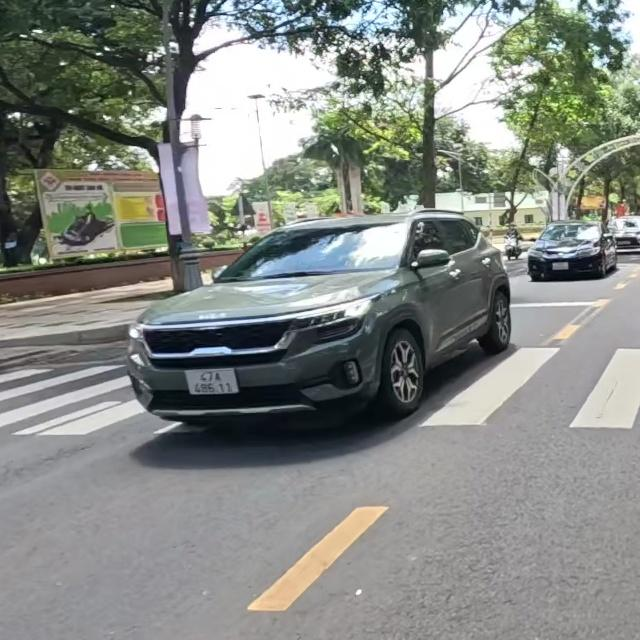license-plate: (186, 370, 239, 396)
